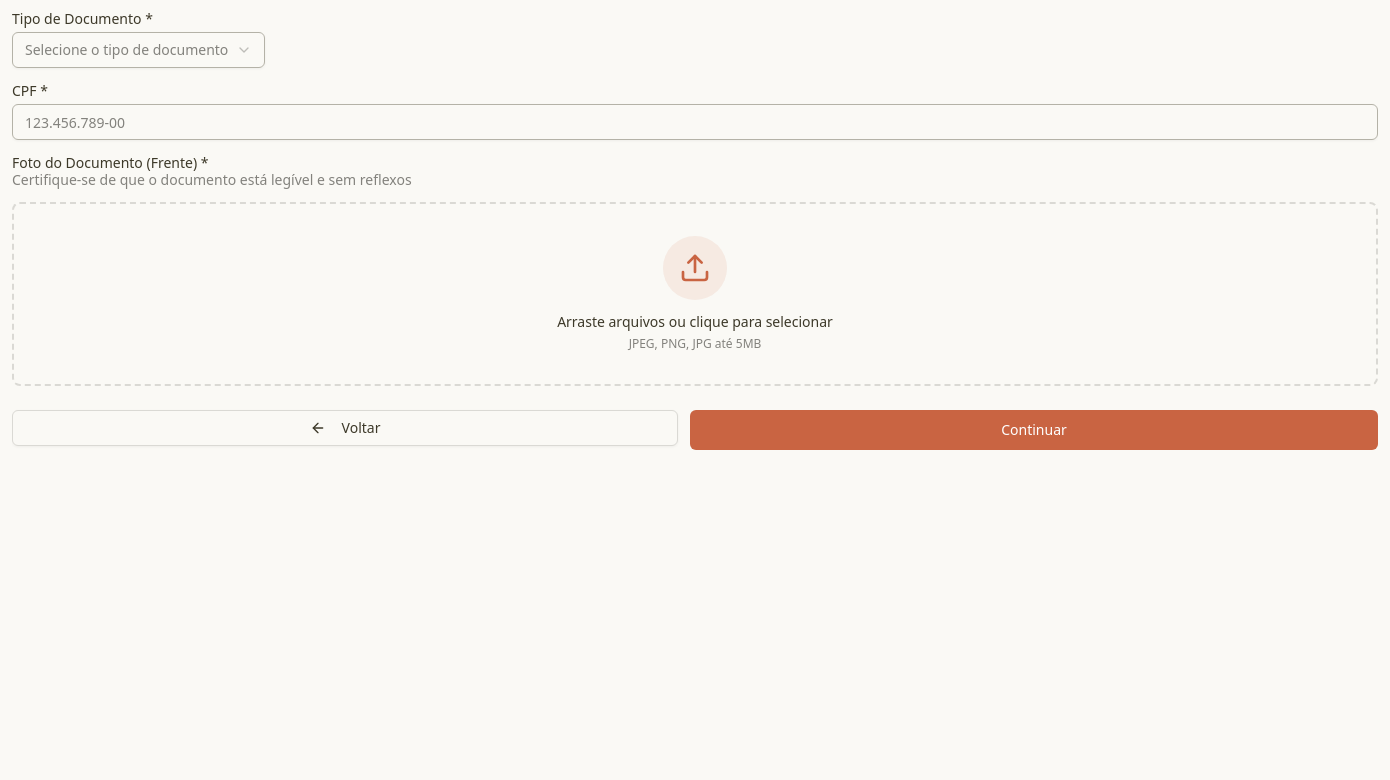
Test: IdentityStep › should show back side upload for RG
Click the dropdown: click(139, 50) x1=12 y1=32 x2=265 y2=68
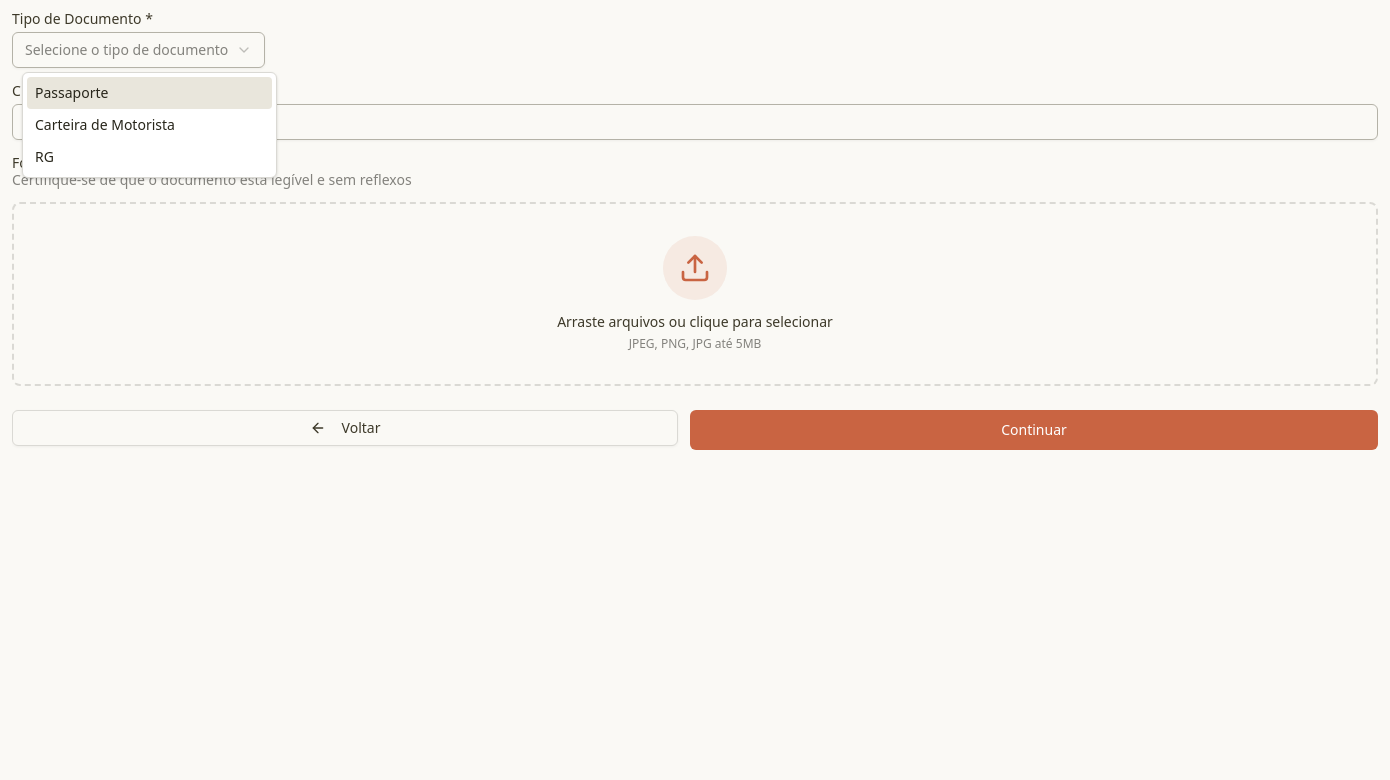
Click the option "RG": click(44, 156) x1=35 y1=147 x2=54 y2=166
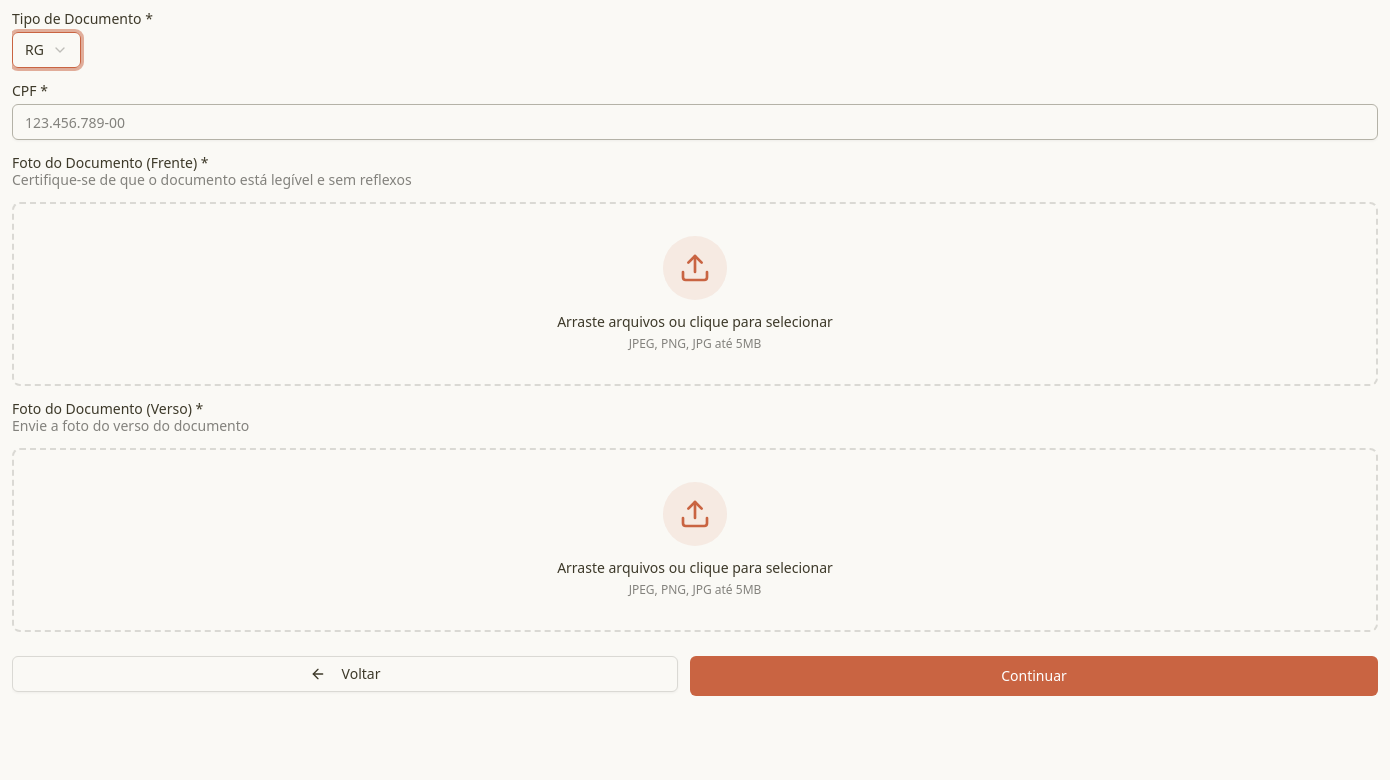
Now the text "Foto do Documento (Verso) *" is shown, box x1=12 y1=399 x2=203 y2=418
